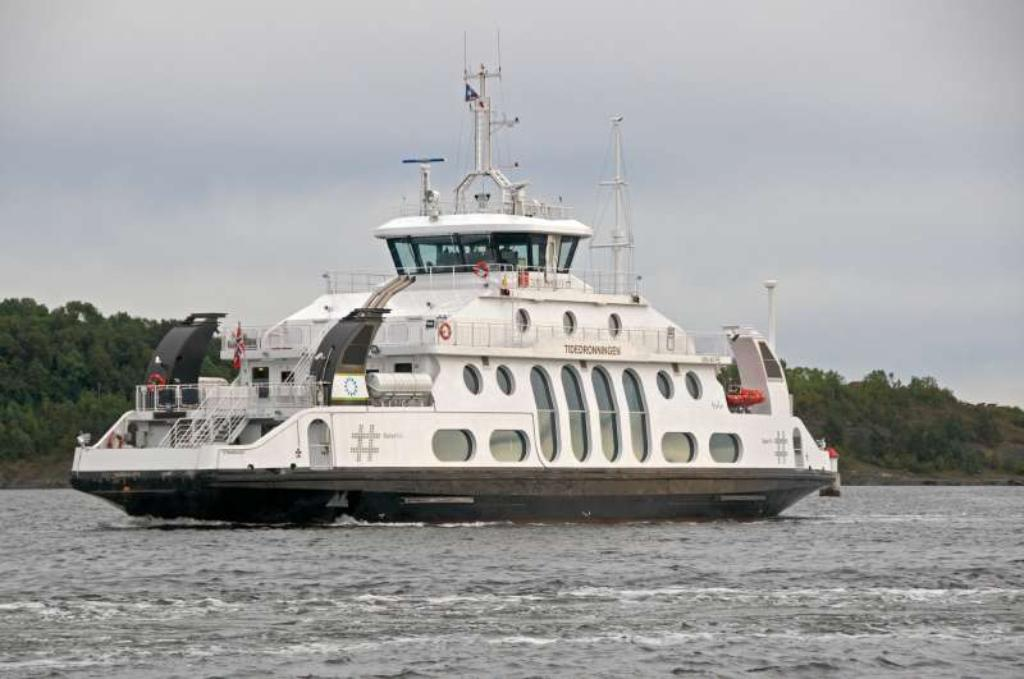PassengerShip: (62, 74, 850, 524)
